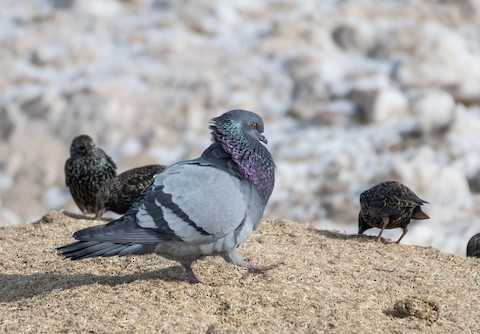pigeon: (52, 102, 300, 284), (353, 176, 432, 251)
